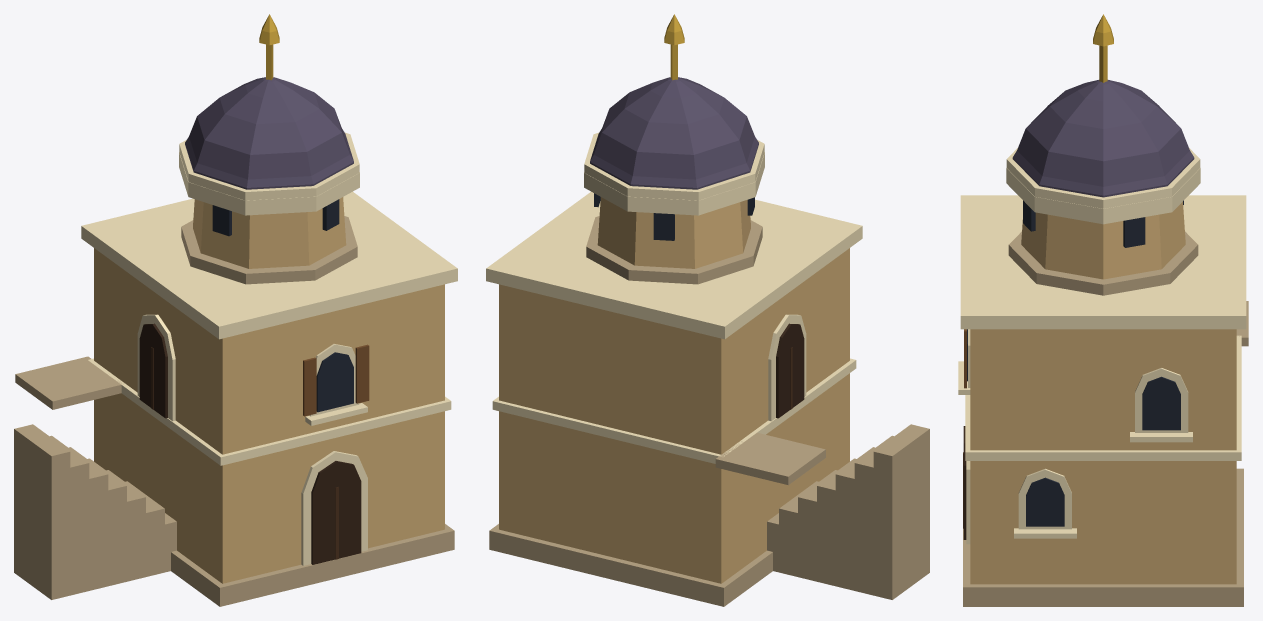
The model's file is house_05_tower_stairs.fbx.
3 views of the same model, side by side, from view 1: azimuth 30°, elevation 25°; view 2: azimuth 150°, elevation 25°; view 3: azimuth 270°, elevation 25° (orthographic). The views are drawn at different scales.
Visible parts, largest first — view 1: house_05_tower_stairs; view 2: house_05_tower_stairs; view 3: house_05_tower_stairs.
Part boxes in pixels (x1,y1,x2,y2): house_05_tower_stairs: (14,14,457,606); house_05_tower_stairs: (486,14,929,606); house_05_tower_stairs: (958,14,1248,606).
Size of the model in its own units: 8.85 by 12.16 by 6.
Materials: 1 (1 with a texture image).
